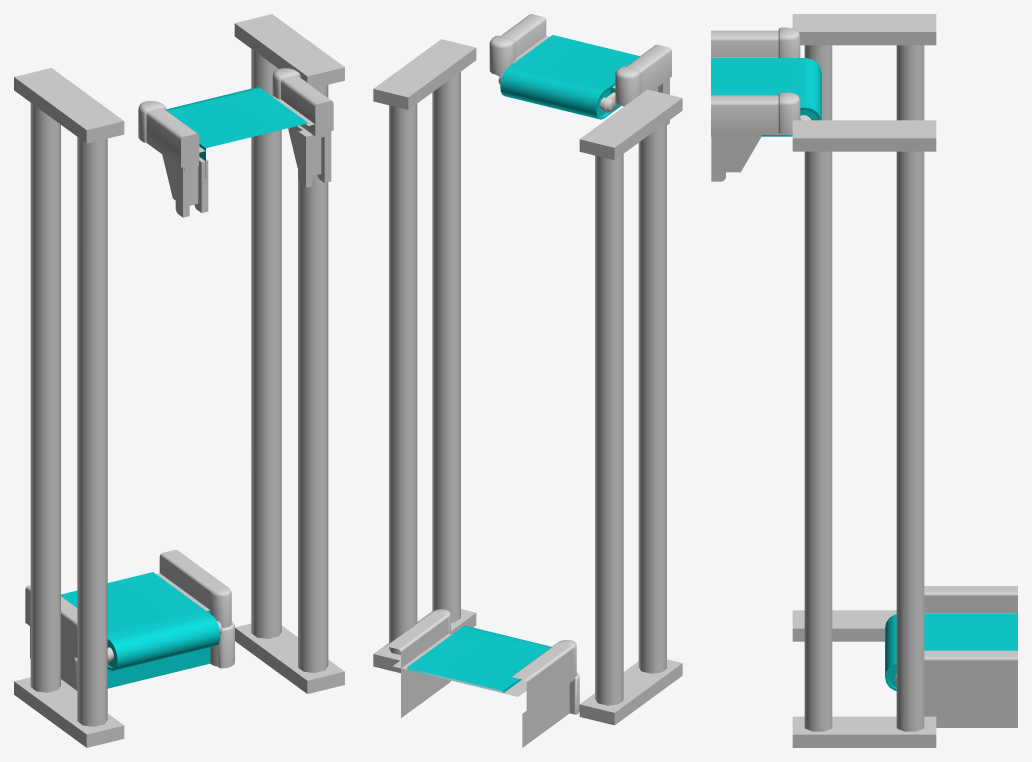
The model's file is Lift2DownForwardInternalVariant.gltf.
3 renders of one model, left to right at view 1: azimuth 30°, elevation 25°; view 2: azimuth 150°, elevation 25°; view 3: azimuth 270°, elevation 25°, orthographic. The views are drawn at different scales.
Visible parts, largest first — view 1: Lift_2DownForward_Layer0_LOD0; view 2: Lift_2DownForward_Layer0_LOD0; view 3: Lift_2DownForward_Layer0_LOD0.
Boxes of the visible parts, x1=… form: Lift_2DownForward_Layer0_LOD0: x1=14, y1=14, x2=344, y2=747; Lift_2DownForward_Layer0_LOD0: x1=373, y1=14, x2=682, y2=747; Lift_2DownForward_Layer0_LOD0: x1=711, y1=14, x2=1017, y2=747.
Bounding box in the file's own units: 0.9604 × 2.27 × 1.
